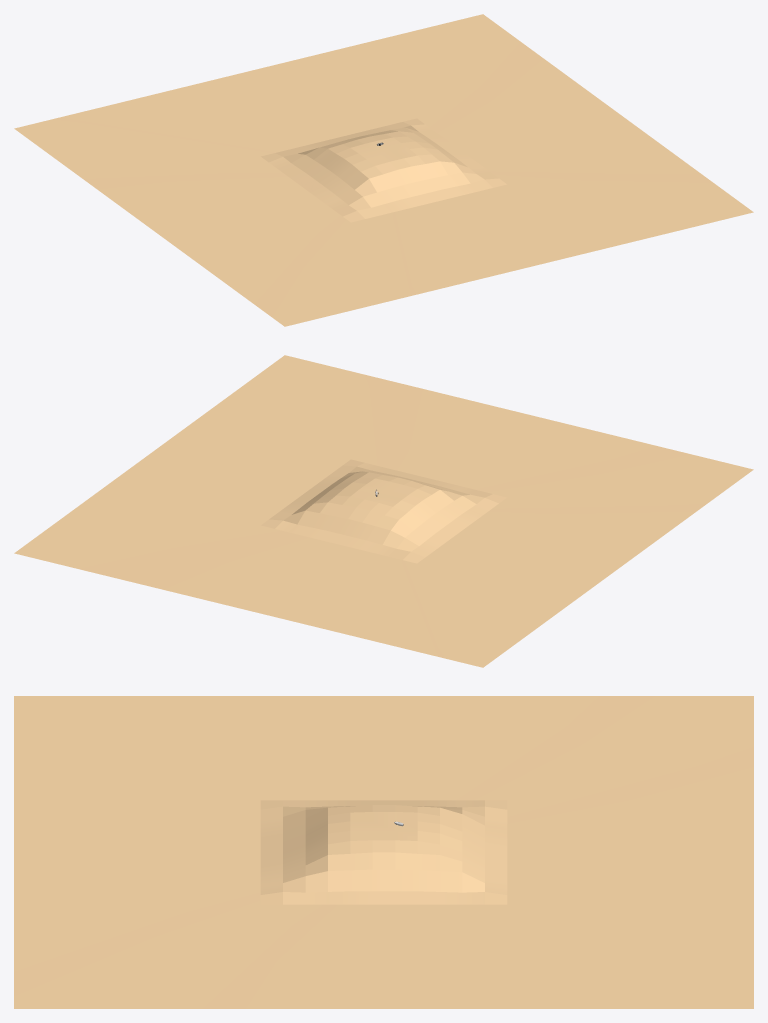
File: Combined Mesh (root_ scene) 2_4.glb
3 renders of one model, top to bottom at view 1: azimuth 30°, elevation 25°; view 2: azimuth 150°, elevation 25°; view 3: azimuth 270°, elevation 25°, orthographic. The views are drawn at different scales.
Parts seen in each view (by area): view 1: Combined Mesh (root_ scene) 2_4; view 2: Combined Mesh (root_ scene) 2_4; view 3: Combined Mesh (root_ scene) 2_4.
Part boxes in pixels (x1,y1,x2,y2): Combined Mesh (root_ scene) 2_4: (14,14,753,326); Combined Mesh (root_ scene) 2_4: (14,355,753,667); Combined Mesh (root_ scene) 2_4: (14,696,753,1008).
Size of the model in its own units: 600 by 32.84 by 600.
Materials: 1 (1 with a texture image).
